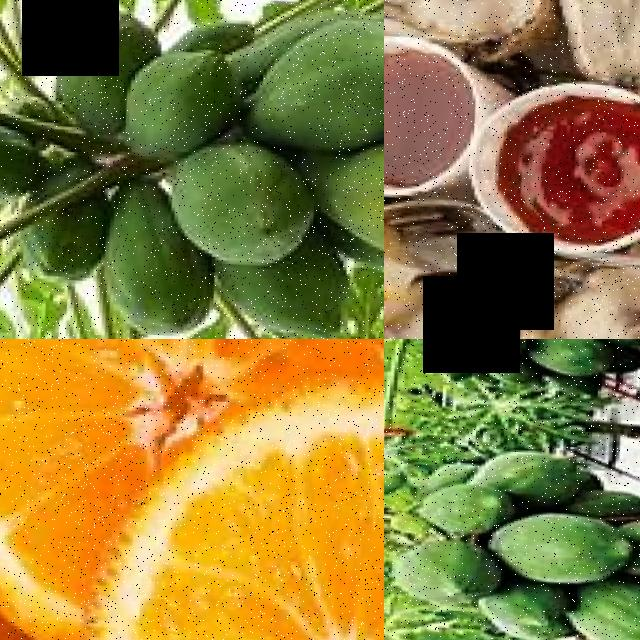orange: (81, 392, 384, 640), (0, 339, 384, 401)
oysters: (531, 0, 640, 94)
pawpaw: (168, 138, 322, 272), (238, 13, 384, 144), (113, 45, 231, 163), (93, 236, 209, 338), (213, 255, 345, 339), (487, 508, 630, 585), (45, 5, 128, 134), (317, 132, 384, 264), (384, 536, 495, 606), (470, 448, 582, 504), (420, 481, 506, 537), (575, 585, 640, 640), (532, 339, 613, 378), (0, 114, 31, 210), (446, 339, 521, 356)
